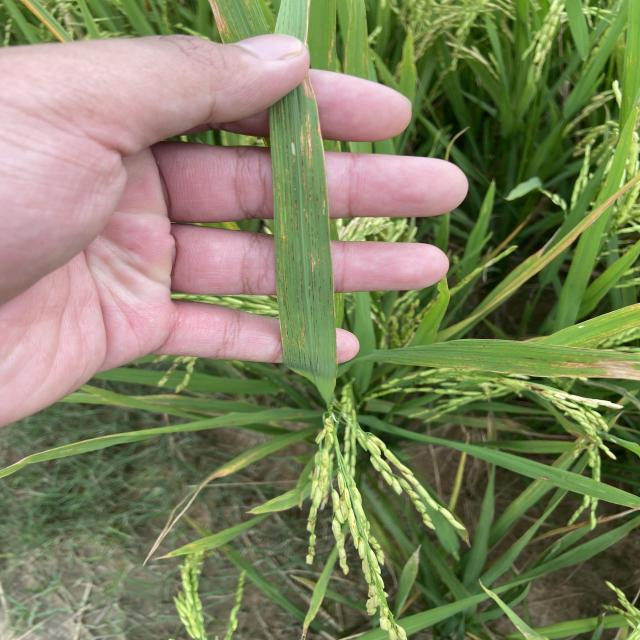Dom soc vi khuan: (278, 270, 295, 327), (299, 124, 308, 222), (276, 172, 288, 245), (304, 112, 315, 189), (296, 324, 306, 352), (294, 199, 299, 231), (290, 138, 296, 164), (321, 191, 327, 217), (283, 319, 289, 344), (310, 252, 316, 273)
